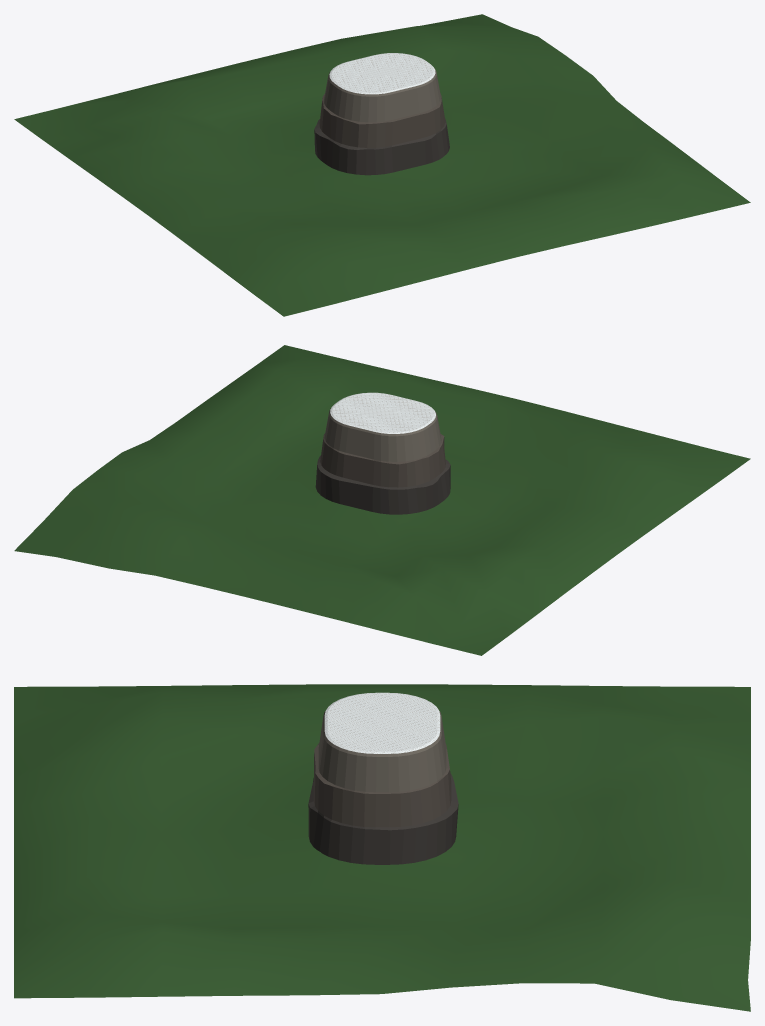
Rendered from Terrain_.fbx.
3 views of the same model, one above another, from view 1: azimuth 30°, elevation 25°; view 2: azimuth 150°, elevation 25°; view 3: azimuth 270°, elevation 25° (orthographic). The views are drawn at different scales.
Visible parts, largest first — view 1: Earth, Hill_Top, Hill_Ground, Hill_Mid; view 2: Earth, Hill_Top, Hill_Ground, Hill_Mid; view 3: Earth, Hill_Top, Hill_Ground, Hill_Mid.
Boxes of the visible parts, x1=… form: Earth: x1=14, y1=14, x2=750, y2=316; Hill_Top: x1=324, y1=53, x2=440, y2=122; Hill_Ground: x1=314, y1=118, x2=449, y2=175; Hill_Mid: x1=319, y1=93, x2=445, y2=147; Earth: x1=14, y1=345, x2=750, y2=655; Hill_Top: x1=324, y1=392, x2=441, y2=461; Hill_Ground: x1=315, y1=455, x2=450, y2=514; Hill_Mid: x1=320, y1=433, x2=445, y2=487; Earth: x1=14, y1=684, x2=750, y2=1011; Hill_Top: x1=318, y1=692, x2=446, y2=792; Hill_Ground: x1=308, y1=773, x2=458, y2=864; Hill_Mid: x1=313, y1=743, x2=451, y2=827.
Size of the model in its own units: 20109 by 3975 by 20000.
7 materials, 1 textured.
